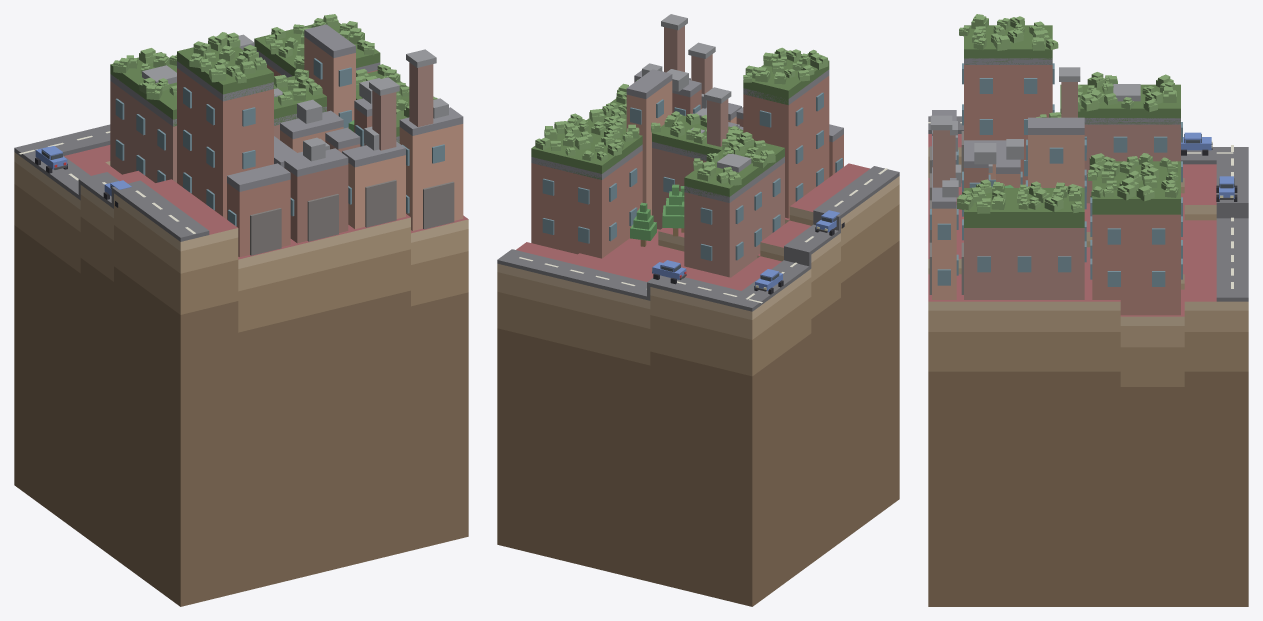
The model's file is block_25_greenroof_75.glb.
3 views of the same model, side by side, from view 1: azimuth 30°, elevation 25°; view 2: azimuth 150°, elevation 25°; view 3: azimuth 270°, elevation 25° (orthographic). The views are drawn at different scales.
Visible parts, largest first — view 1: Patch_UpperRight_b25_GR, Factories_UpperRight_b25_GR, Roads_UpperRight_b25_GR, GR_Roof_Factories_UpperRight_b25_GR, RCar_15_GR; view 2: Patch_UpperRight_b25_GR, Factories_UpperRight_b25_GR, Roads_UpperRight_b25_GR, GR_Roof_Factories_UpperRight_b25_GR, FTree_2_GR, FTree_0_GR, RCar_7_GR; view 3: Patch_UpperRight_b25_GR, Factories_UpperRight_b25_GR, GR_Roof_Factories_UpperRight_b25_GR, Roads_UpperRight_b25_GR, RCar_15_GR, RCar_7_GR.
Part boxes in pixels (x1,y1,x2,y2): Patch_UpperRight_b25_GR: (14,145,468,606); Factories_UpperRight_b25_GR: (110,24,463,257); Roads_UpperRight_b25_GR: (14,124,209,241); GR_Roof_Factories_UpperRight_b25_GR: (110,22,409,143); RCar_15_GR: (35,146,67,173); Patch_UpperRight_b25_GR: (497,163,899,606); Factories_UpperRight_b25_GR: (531,14,843,277); Roads_UpperRight_b25_GR: (497,166,899,311); GR_Roof_Factories_UpperRight_b25_GR: (531,50,829,200); FTree_2_GR: (662,184,684,236); FTree_0_GR: (630,202,656,246); RCar_7_GR: (652,260,686,284); Patch_UpperRight_b25_GR: (928,134,1248,606); Factories_UpperRight_b25_GR: (929,58,1182,315); GR_Roof_Factories_UpperRight_b25_GR: (964,25,1180,227); Roads_UpperRight_b25_GR: (928,116,1248,301); RCar_15_GR: (1181,132,1212,155); RCar_7_GR: (1216,176,1237,201).
Size of the model in its own units: 9.63 by 15.89 by 9.5.
